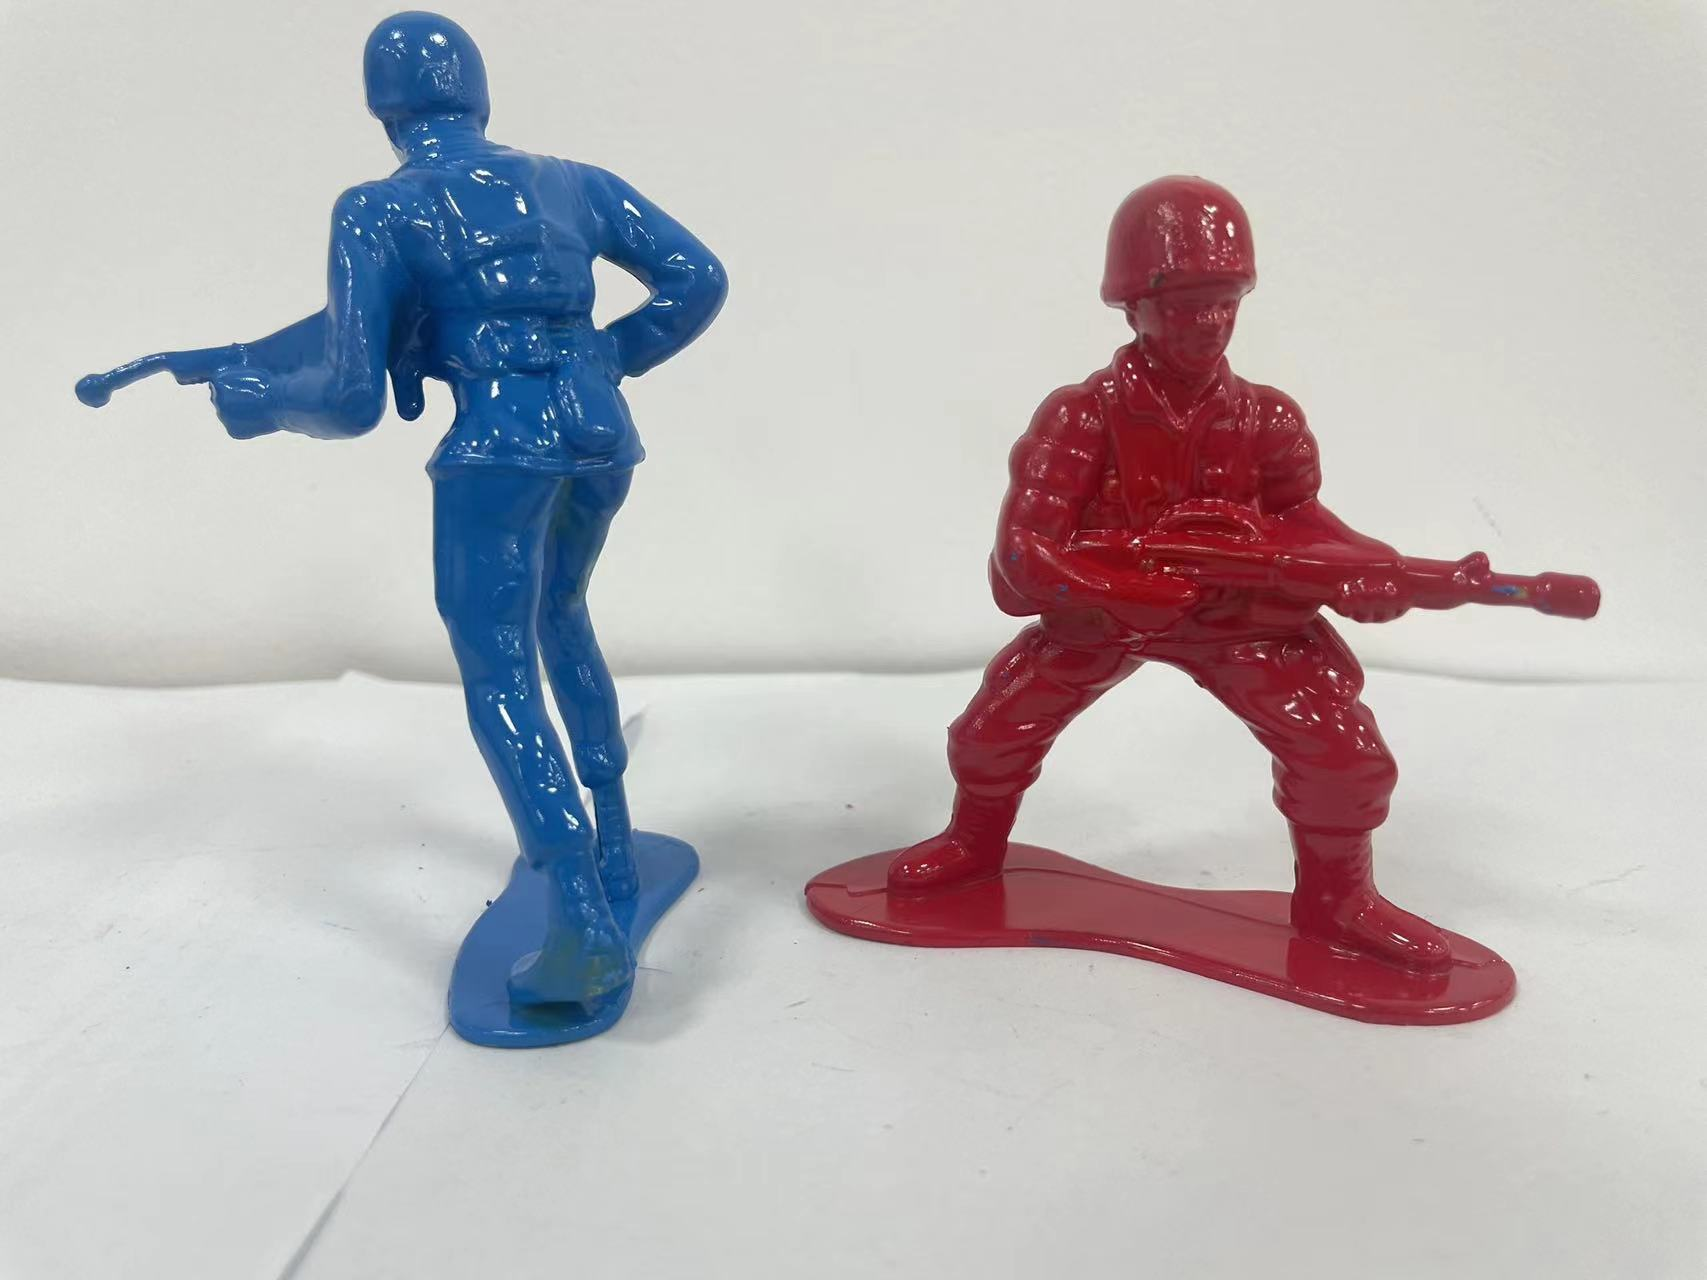red: (798, 116, 1629, 1104)
